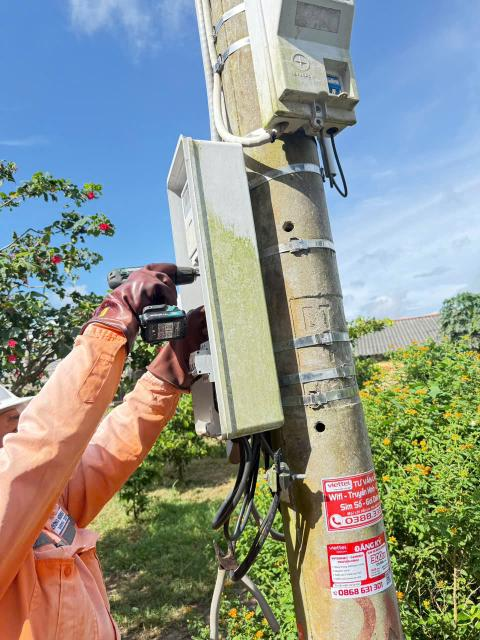gloves: (139, 290, 234, 392), (88, 259, 185, 348)
